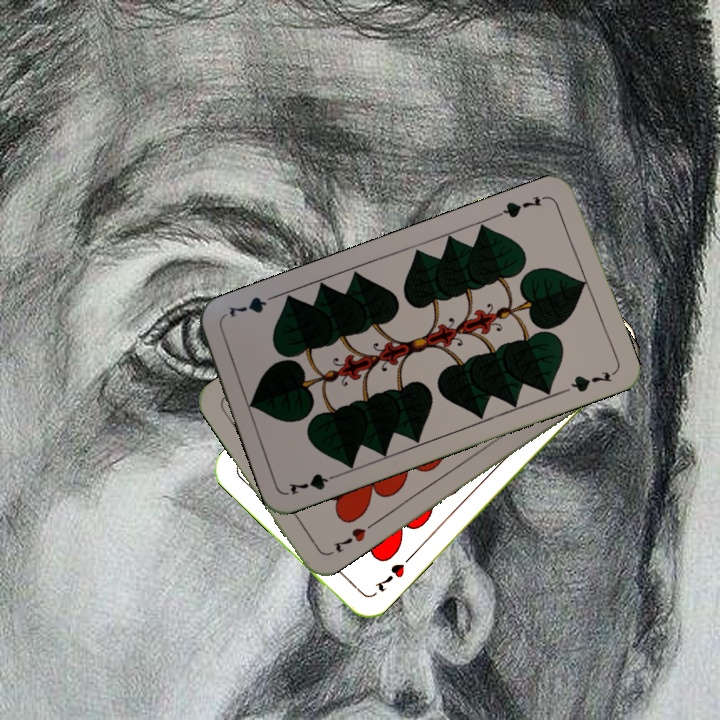G7: (285, 468, 343, 497), (493, 191, 551, 220)
H7: (370, 551, 415, 595), (329, 523, 369, 555)
